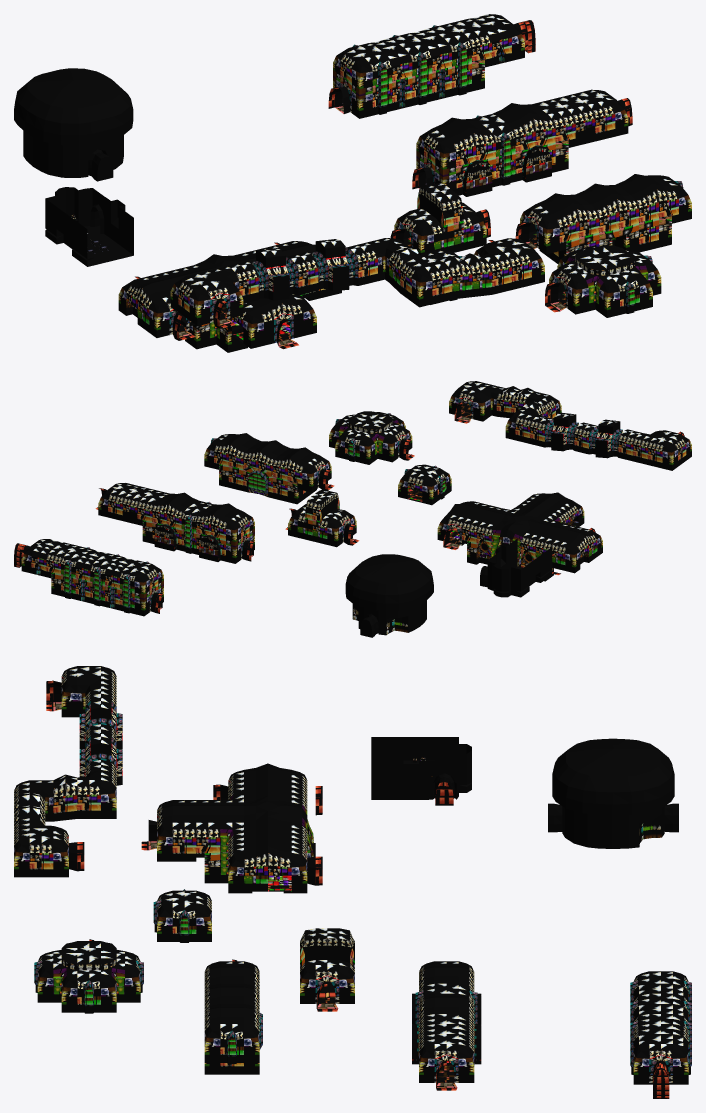
3 views of the same model, one above another, from view 1: azimuth 30°, elevation 25°; view 2: azimuth 150°, elevation 25°; view 3: azimuth 270°, elevation 25° (orthographic). The views are drawn at different scales.
Visible parts, largest first — view 1: T1L1M004_88, T1L1M004_93, T1L1M004_94, T1L1M004_83, T1L1M004_53, T1L1M004_459, T1L1M004_96, T1L1M004_463, T1L1M004_95, T1L1M004_403, T1L1M004_237, T1L1M004_464 (+23 smaller); view 2: T1L1M004_28, T1L1M004_53, T1L1M004_29, T1L1M004_30, T1L1M004_433, T1L1M004_429, T1L1M004_102, T1L1M004_196, T1L1M004_31, T1L1M004_83, T1L1M004_434, T1L1M004_430 (+2 smaller); view 3: T1L1M004_57, T1L1M004_92, T1L1M004_31, T1L1M004_87, T1L1M004_190, T1L1M004_96, T1L1M004_30, T1L1M004_212, T1L1M004_155, T1L1M004_159, T1L1M004_210, T1L1M004_51 (+1 smaller).
Part boxes in pixels (x1,y1,x2,y2): T1L1M004_88: (35, 102, 63, 177); T1L1M004_93: (60, 108, 78, 177); T1L1M004_94: (78, 105, 102, 177); T1L1M004_83: (25, 87, 69, 171); T1L1M004_53: (14, 83, 59, 166); T1L1M004_459: (255, 251, 281, 300); T1L1M004_96: (108, 94, 132, 169); T1L1M004_463: (315, 241, 340, 290); T1L1M004_95: (88, 100, 121, 178); T1L1M004_403: (257, 300, 287, 346); T1L1M004_237: (426, 195, 453, 241); T1L1M004_464: (331, 240, 358, 290); T1L1M004_28: (385, 570, 411, 618); T1L1M004_53: (396, 567, 425, 632); T1L1M004_29: (369, 570, 396, 635); T1L1M004_30: (354, 567, 385, 635); T1L1M004_433: (557, 414, 576, 451); T1L1M004_429: (601, 421, 620, 458); T1L1M004_102: (493, 566, 510, 597); T1L1M004_196: (312, 498, 332, 533); T1L1M004_31: (346, 565, 377, 628); T1L1M004_83: (400, 563, 431, 625); T1L1M004_434: (545, 414, 564, 450); T1L1M004_430: (589, 420, 608, 457); T1L1M004_57: (612, 775, 644, 848); T1L1M004_92: (566, 775, 599, 848); T1L1M004_31: (623, 757, 670, 839); T1L1M004_87: (595, 776, 612, 848); T1L1M004_190: (379, 760, 403, 799); T1L1M004_96: (552, 767, 576, 843); T1L1M004_30: (627, 750, 672, 832); T1L1M004_212: (315, 965, 339, 1008); T1L1M004_155: (434, 1044, 458, 1087); T1L1M004_159: (403, 760, 434, 799); T1L1M004_210: (315, 933, 339, 964); T1L1M004_51: (649, 1044, 672, 1082).
Bounding box in the file's own units: 125 × 27.38 × 114.
